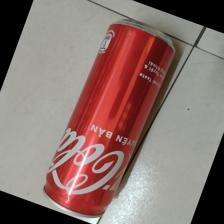Coca: (42, 20, 176, 218)
